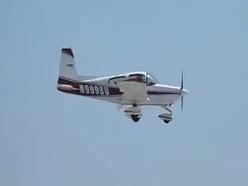aircraft: (56, 48, 192, 124)
